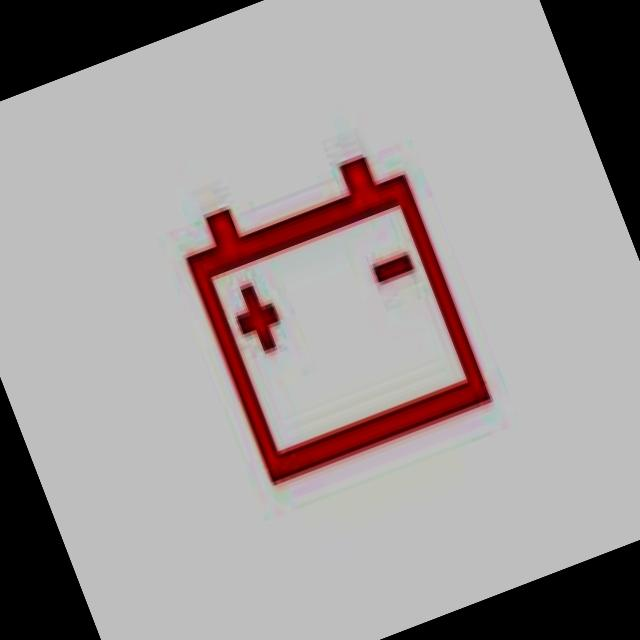kontrolka: (150, 128, 512, 514)
